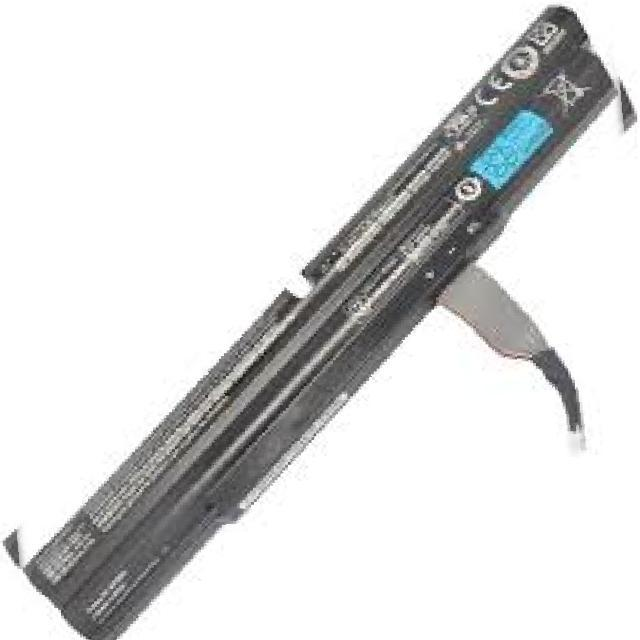Battery: (20, 0, 619, 640)
